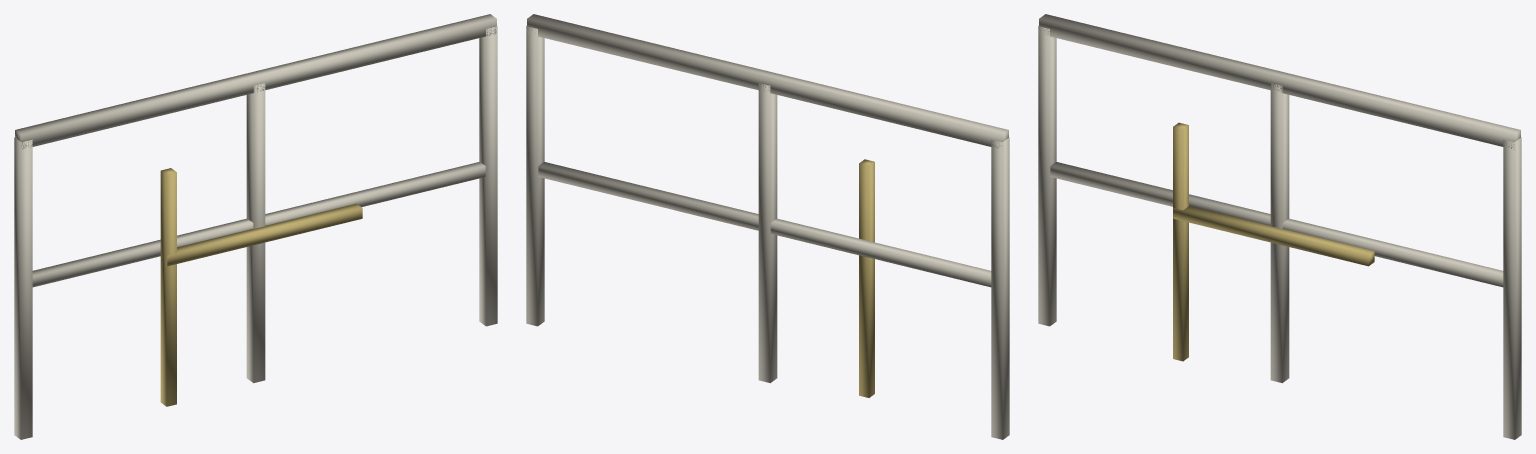
File: civic_gate_l180_h110.glb
The picture shows the model from 3 angles, left to right: view 1: azimuth 30°, elevation 25°; view 2: azimuth 150°, elevation 25°; view 3: azimuth 330°, elevation 25°; orthographic projection.
Parts seen in each view (by area): view 1: world; view 2: world; view 3: world.
Boxes of the visible parts, x1,y1,x2,y2 form: world: (14, 14, 497, 439); world: (526, 14, 1009, 439); world: (1038, 14, 1521, 439).
Bounding box in the file's own units: 1.85 × 1.13 × 0.0825.
